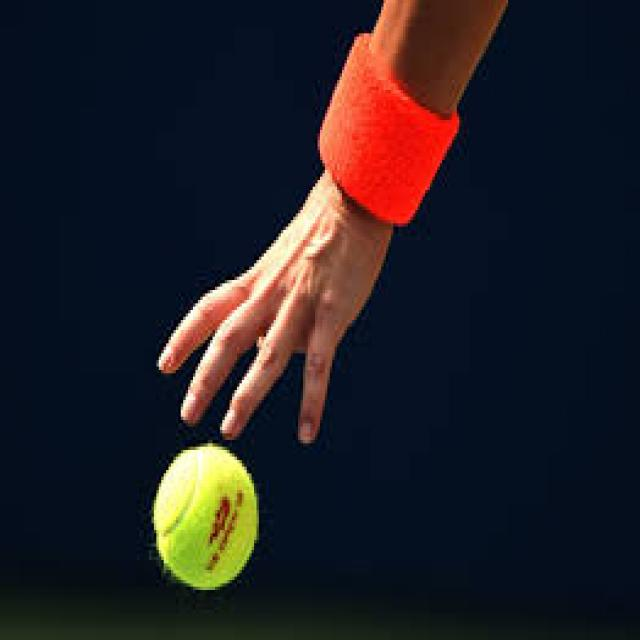Tennis-Ball: (150, 441, 261, 596)
